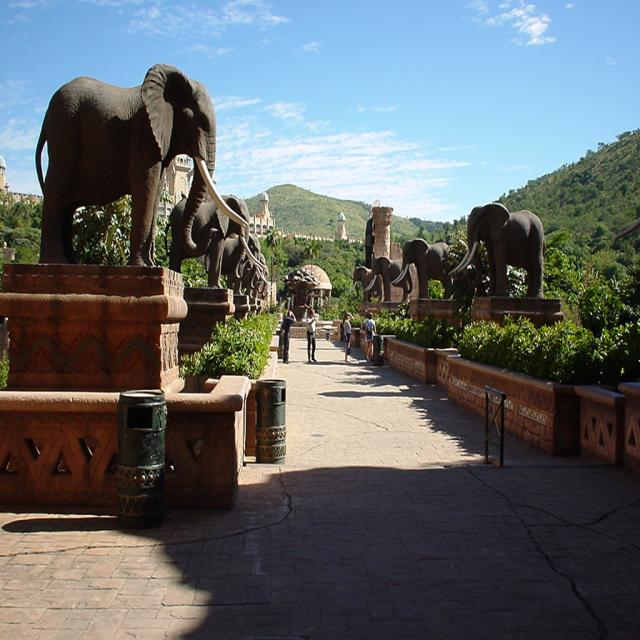Elephant: (34, 62, 250, 268), (168, 192, 270, 296), (448, 201, 546, 297), (390, 238, 454, 300)
person: (280, 309, 296, 363), (362, 311, 377, 361), (342, 313, 353, 362), (306, 310, 316, 362)
